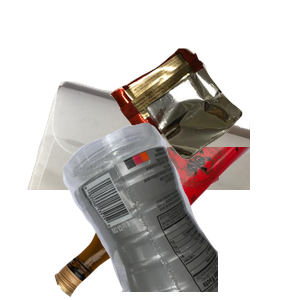glass: (52, 147, 292, 300)
paper: (25, 79, 265, 259)
plastic: (60, 120, 300, 300)
trash: (107, 46, 300, 198)
